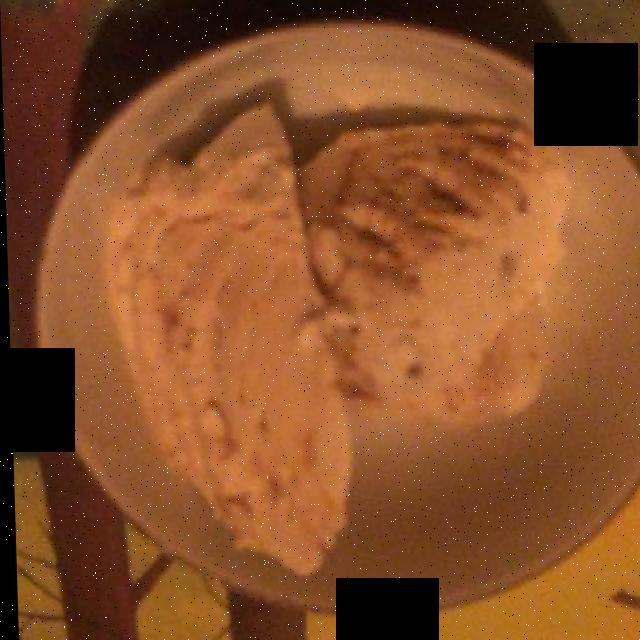ice-cream: (148, 117, 557, 559)
